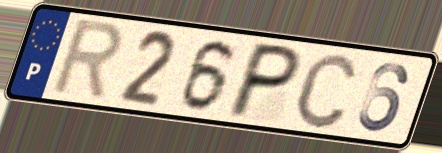2: (117, 29, 178, 109)
6: (179, 37, 240, 113), (357, 61, 411, 134)
C: (291, 50, 361, 131)
P: (222, 39, 307, 121)
R: (45, 17, 128, 105)
